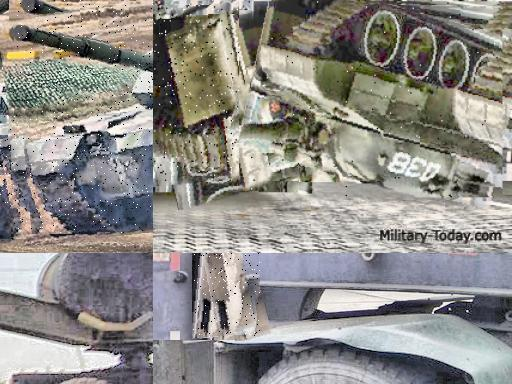tanks: (241, 3, 502, 197), (14, 24, 154, 234), (154, 2, 288, 182), (1, 127, 70, 210), (209, 254, 261, 338)
